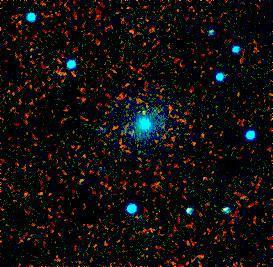star: (131, 95, 161, 125)
